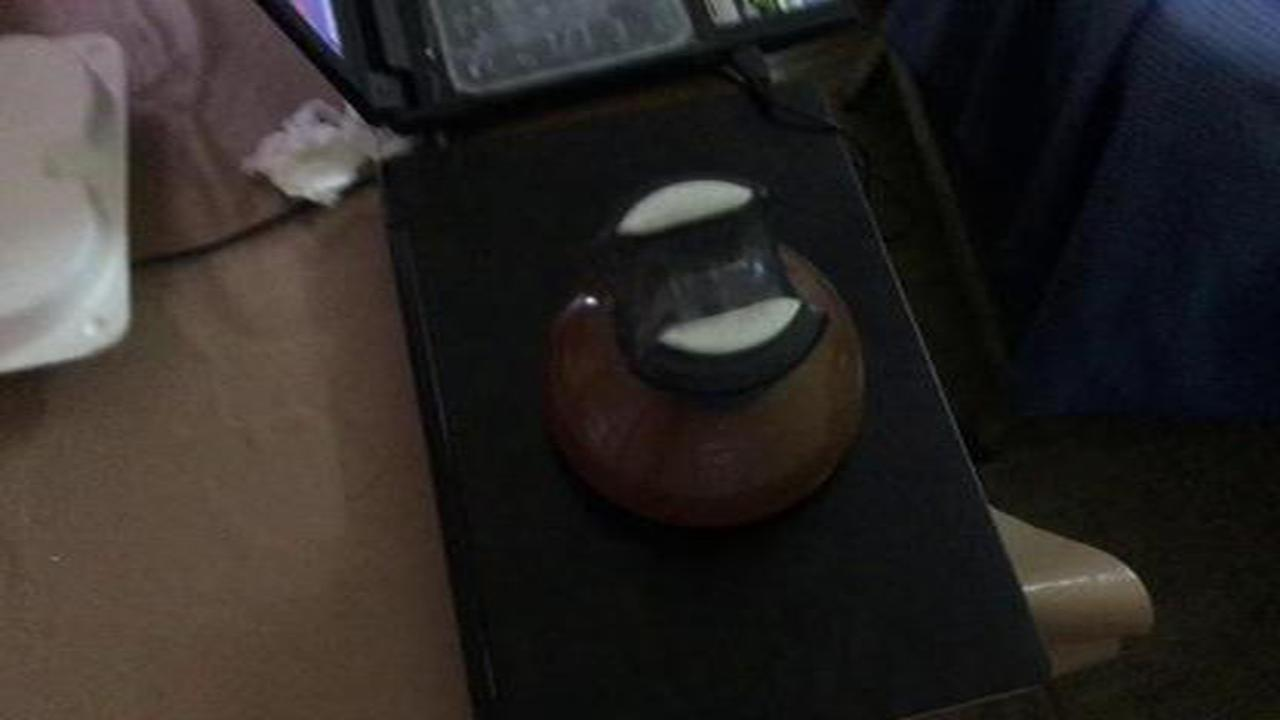insulator_pin: (514, 164, 890, 561)
